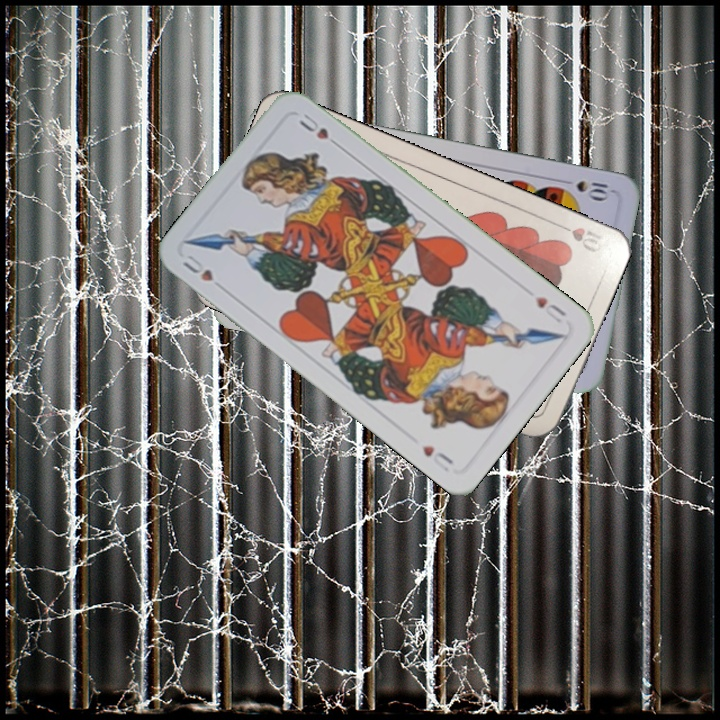H10: (551, 219, 610, 256)
HU: (530, 292, 569, 326), (179, 250, 216, 284)
S10: (556, 175, 615, 202)
